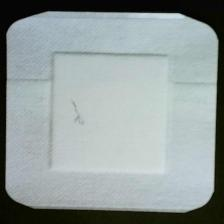Dressing: (5, 12, 221, 215)
F_Body: (66, 97, 93, 132)
